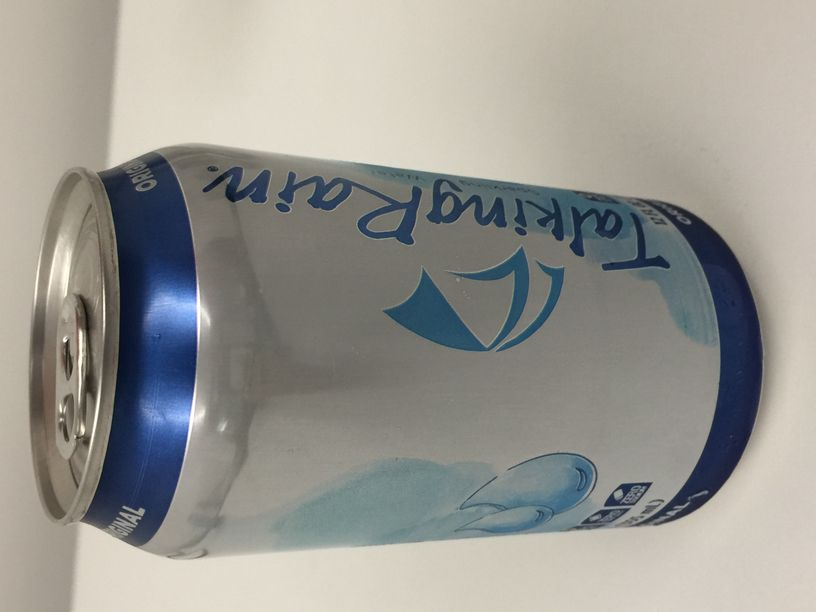competitor_02: (26, 141, 766, 562)
